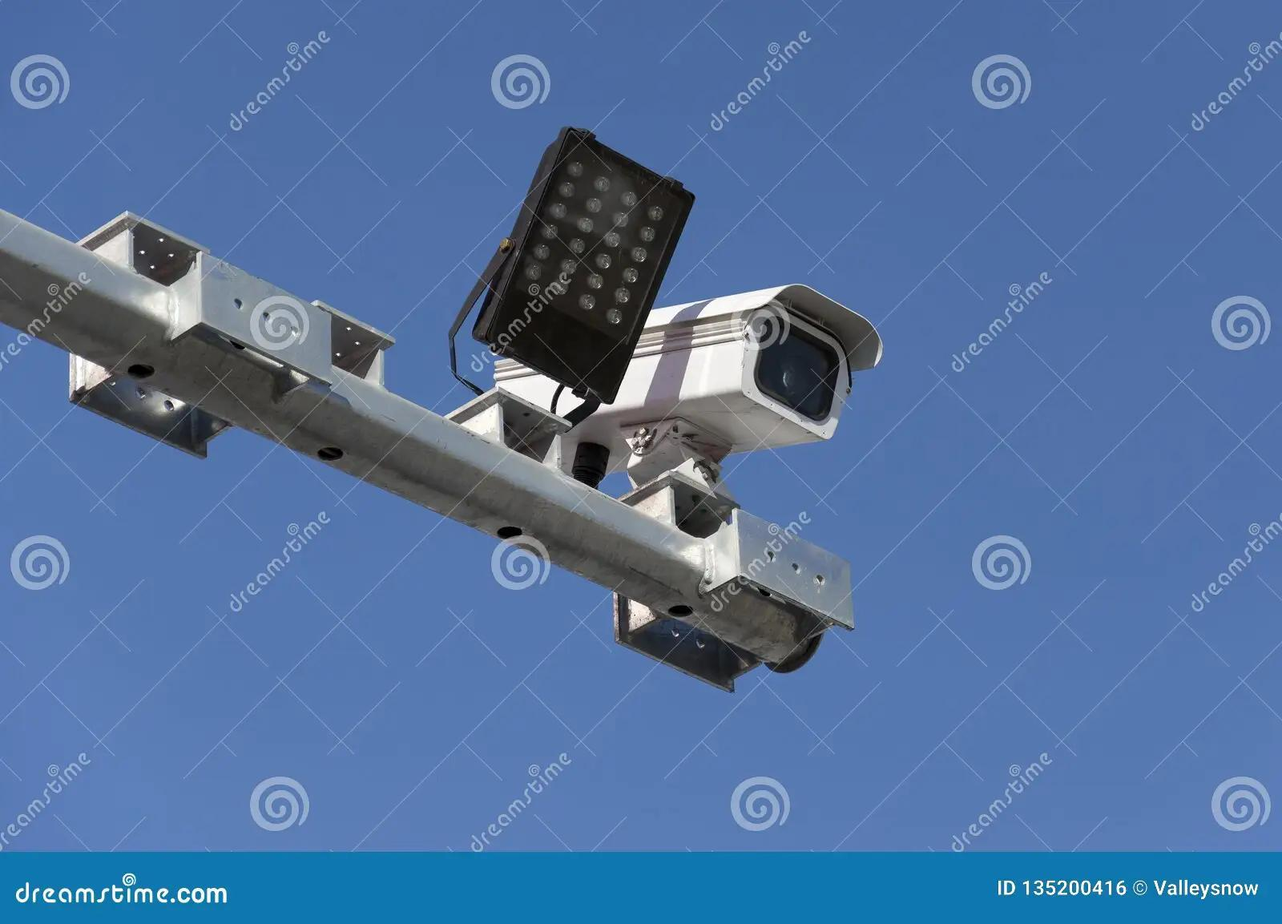Monitor: (485, 278, 898, 498)
